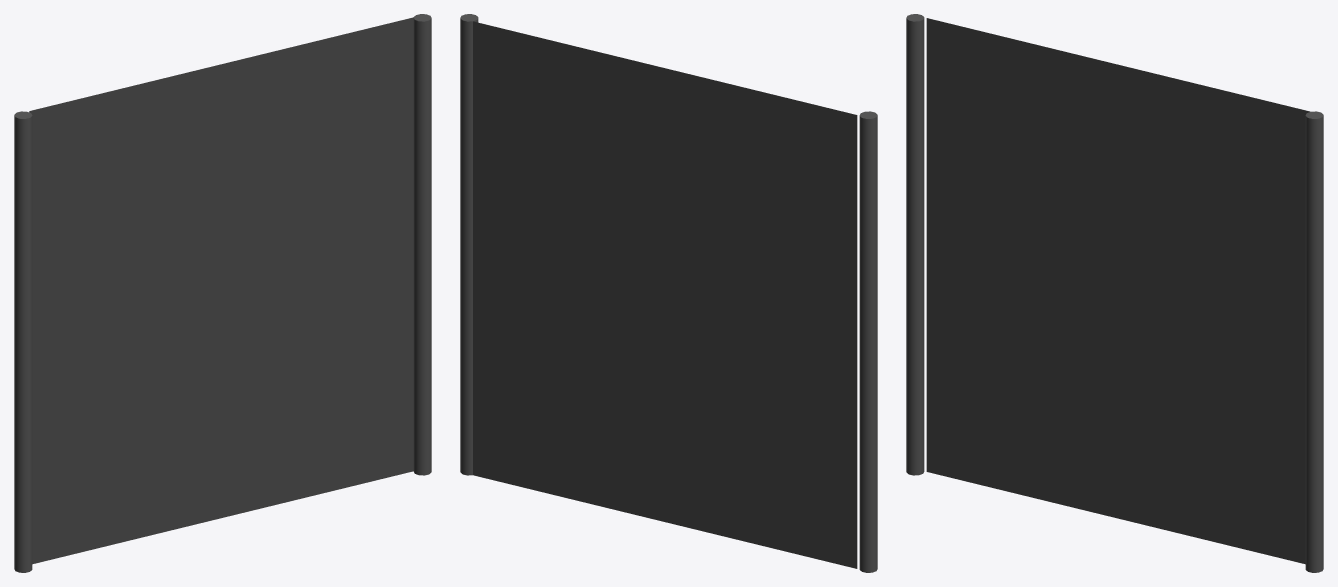
File: CHAIN_LINK_FENCE.fbx
3 renders of one model, left to right at view 1: azimuth 30°, elevation 25°; view 2: azimuth 150°, elevation 25°; view 3: azimuth 330°, elevation 25°, orthographic.
Parts seen in each view (by area): view 1: pCylinder3; view 2: pCylinder3; view 3: pCylinder3.
Boxes of the visible parts, <box> form: pCylinder3: <box>14,14,431,572</box>; pCylinder3: <box>460,14,877,572</box>; pCylinder3: <box>906,14,1323,572</box>.
Bounding box in the file's own units: 2.08 × 2.17 × 0.0759.
